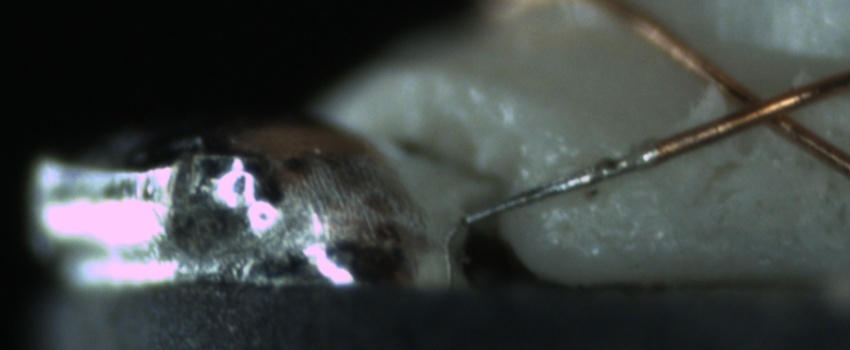CL: (712, 75, 814, 142)
TS: (462, 138, 660, 229)
